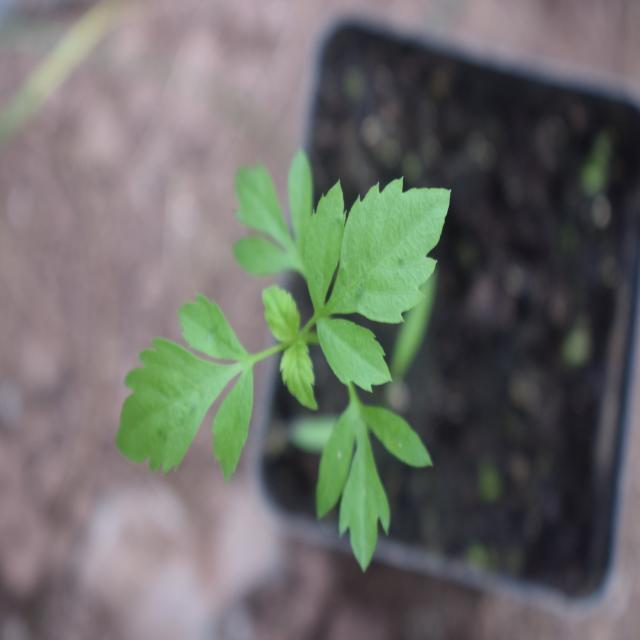Bidens pilosa: (100, 134, 445, 552)
